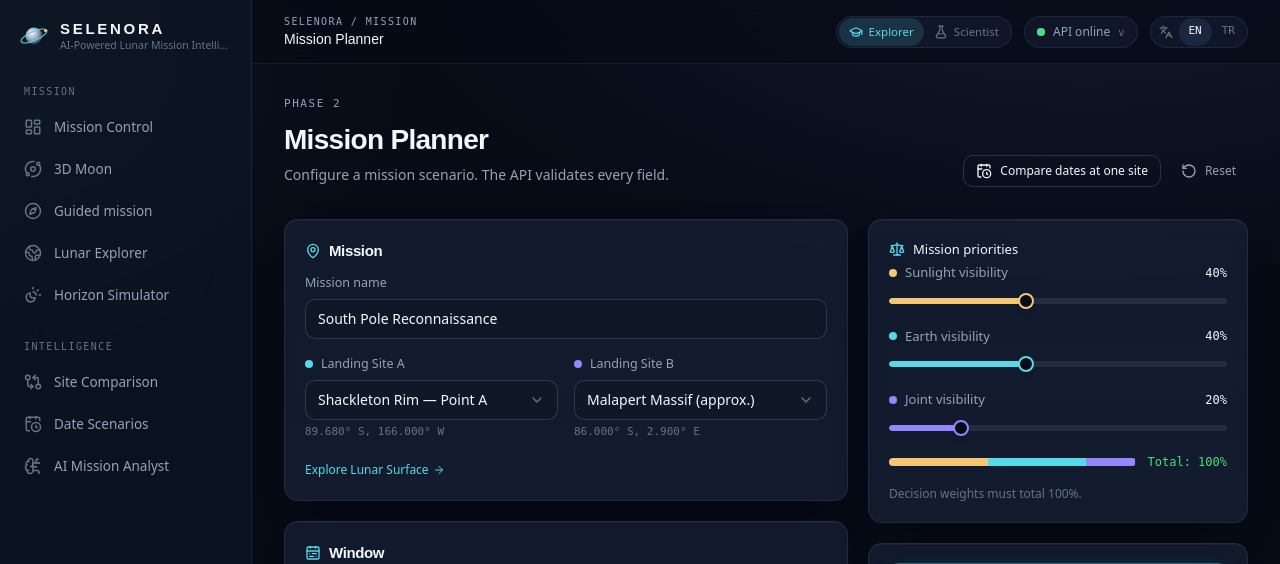
Planner A/B site selects (dark-theme Radix) › selects a different Site B option via pointer and keeps Site A
Click the dropdown with test id "planner-siteB-trigger".
click(700, 400)  # box [574, 380, 827, 420]
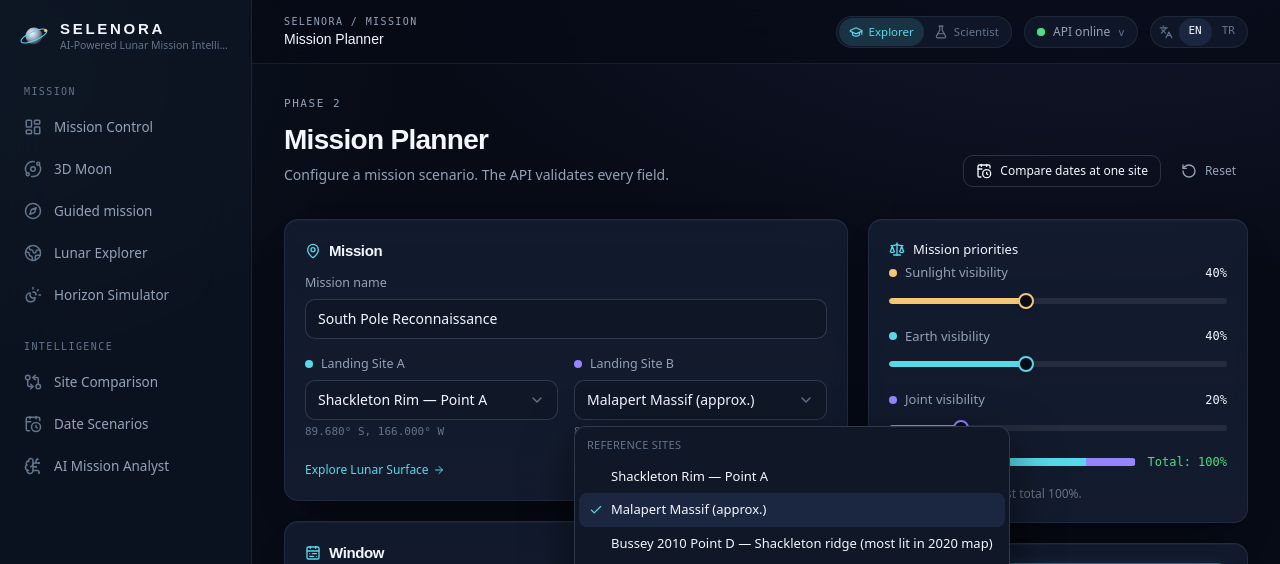
Click the option "Bussey 2010 Point D".
click(802, 543)  # box [611, 534, 993, 552]
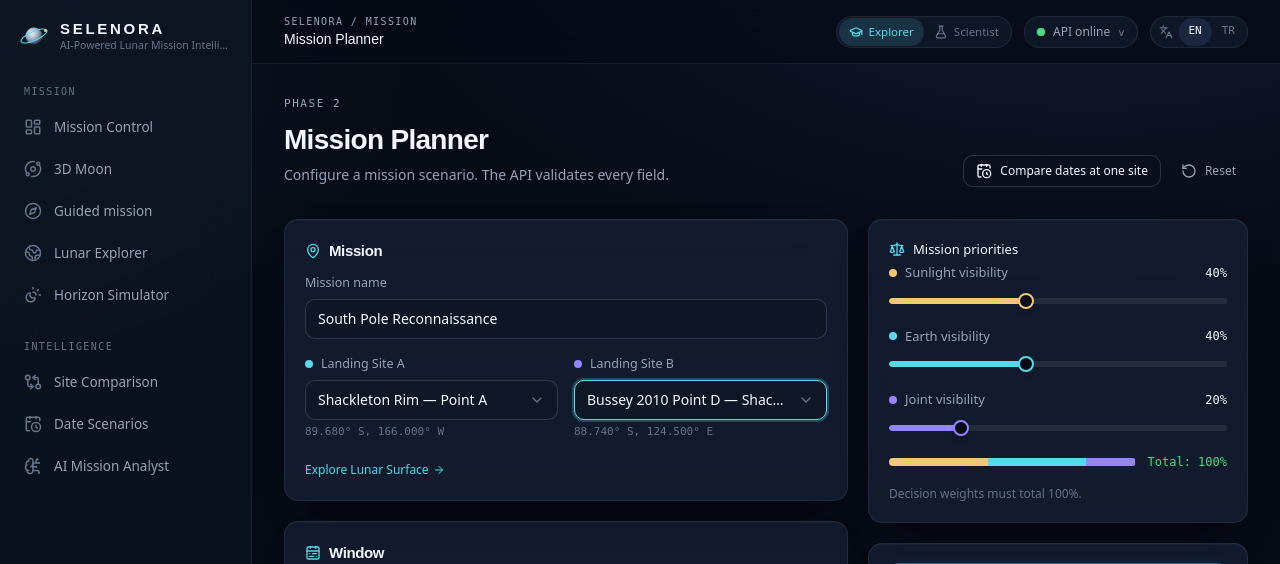
Expected: the dropdown with test id "planner-siteB-trigger" shows "Bussey 2010 Point D", [574, 380, 827, 420]
